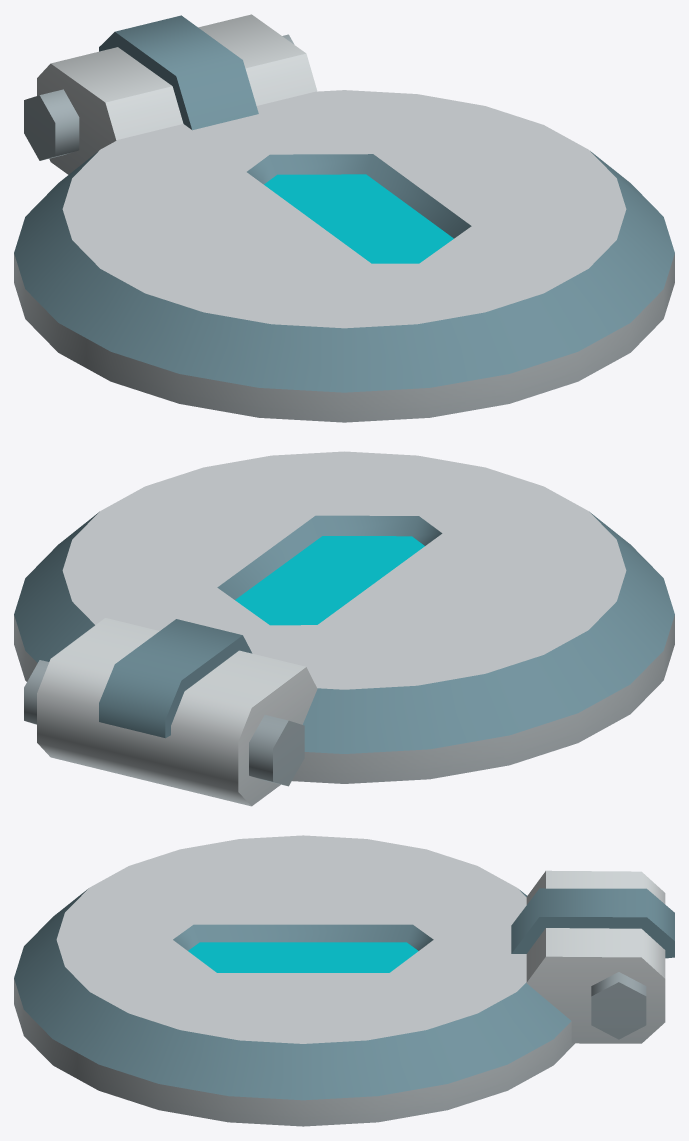
File: Hatch_002_door_001.fbx
3 views of the same model, one above another, from view 1: azimuth 30°, elevation 25°; view 2: azimuth 150°, elevation 25°; view 3: azimuth 270°, elevation 25° (orthographic). The views are drawn at different scales.
Visible parts, largest first — view 1: Hatch_002_door_001; view 2: Hatch_002_door_001; view 3: Hatch_002_door_001.
Part boxes in pixels (x1,y1,x2,y2): Hatch_002_door_001: (14, 14, 674, 422); Hatch_002_door_001: (14, 451, 674, 806); Hatch_002_door_001: (14, 835, 674, 1126).
Size of the model in its own units: 80 by 91.4 by 16.31.
